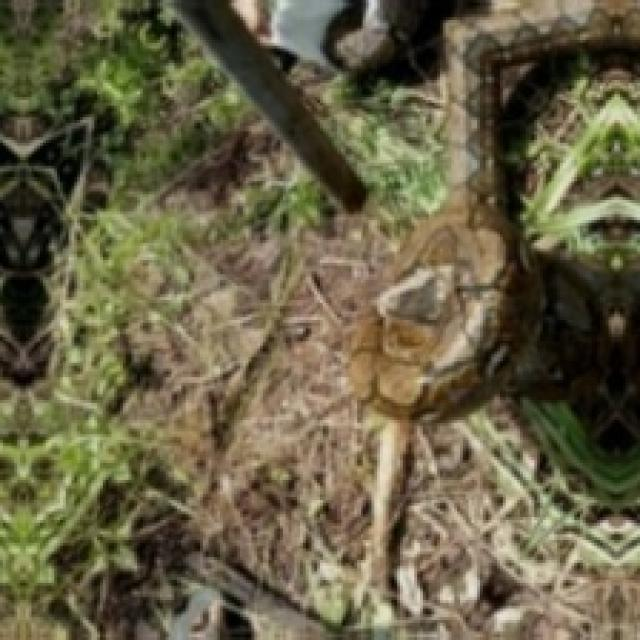reticulated python: (351, 4, 639, 419)
